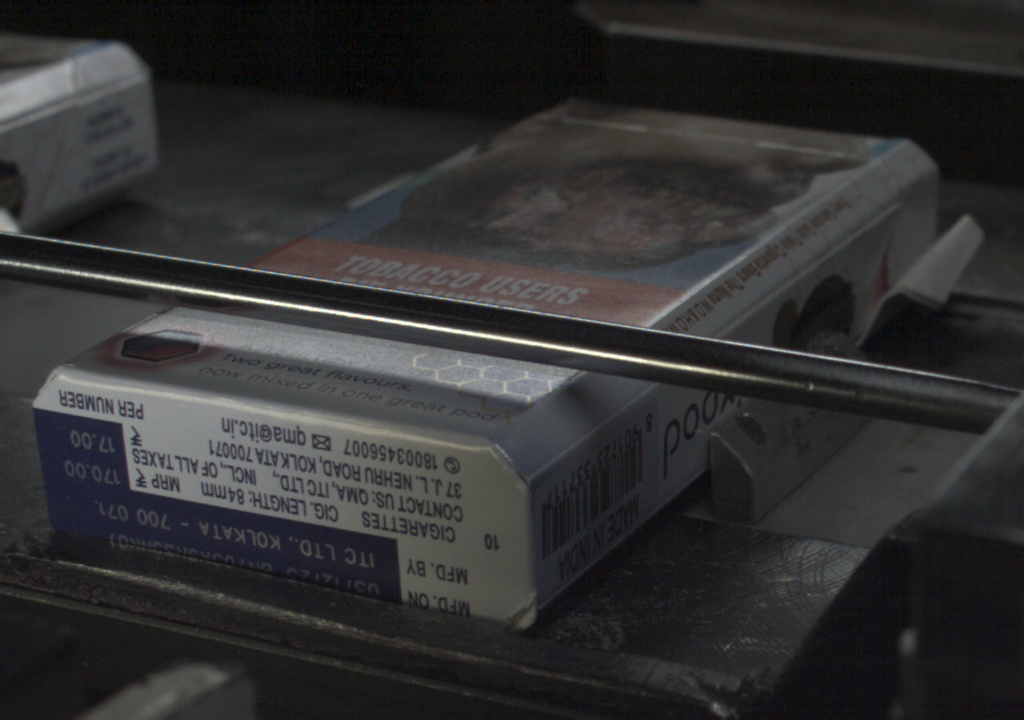g_bottom: (35, 370, 535, 636)
g_label: (42, 499, 402, 602)
g_lmiter: (721, 268, 809, 336), (810, 204, 892, 267), (594, 384, 656, 434), (530, 434, 594, 481)
ng_miter: (897, 186, 984, 308)
price: (39, 426, 129, 496)
